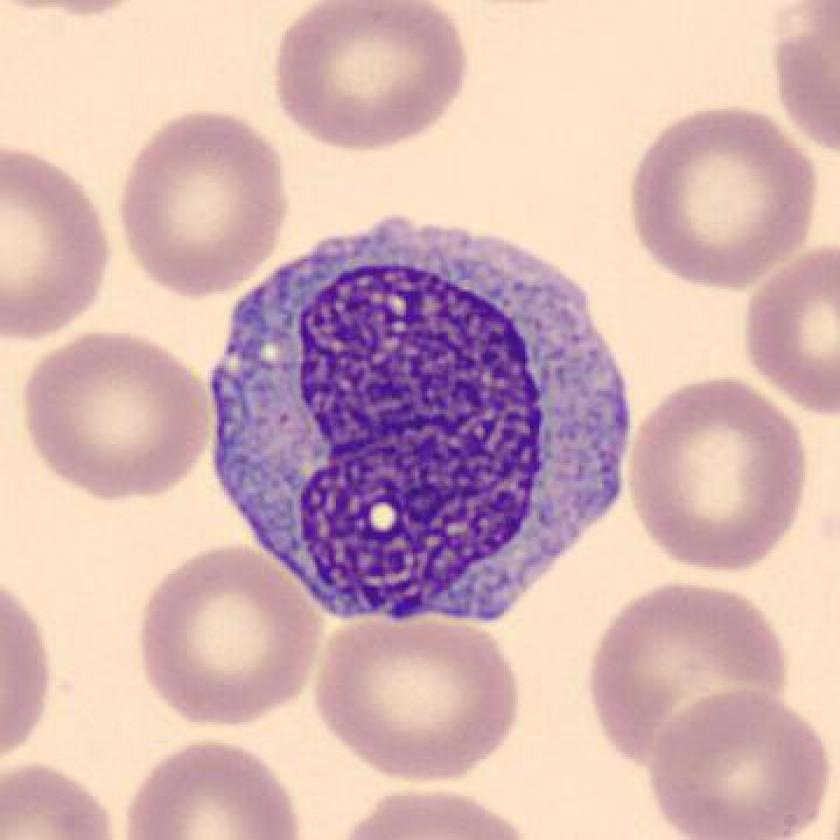monocyte: (195, 200, 647, 642)
